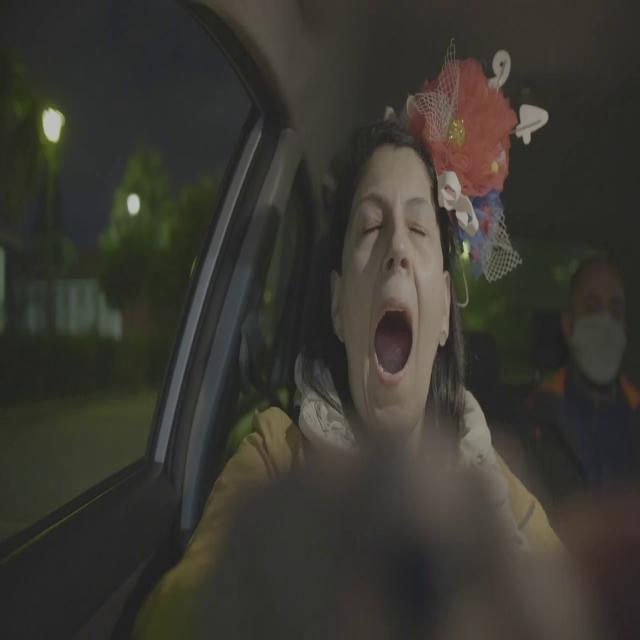close: (351, 190, 389, 246), (399, 191, 435, 242)
